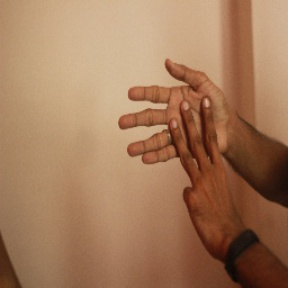M: (110, 57, 234, 191)
